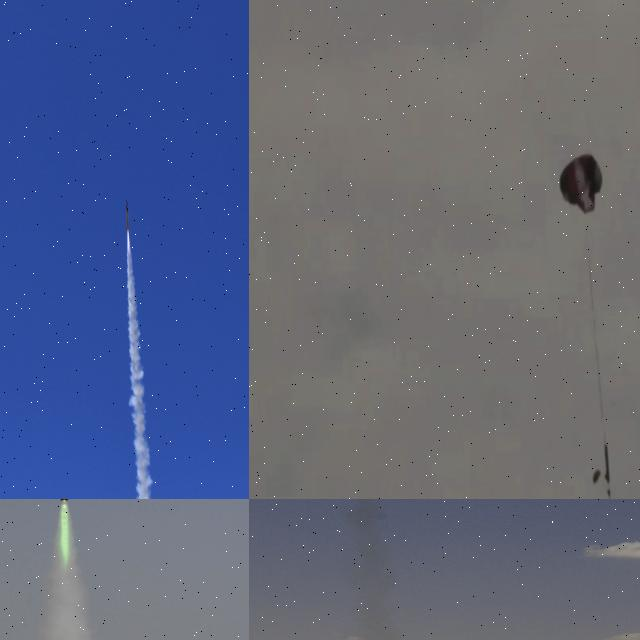Rocket: (604, 443, 610, 484), (125, 199, 130, 231)
